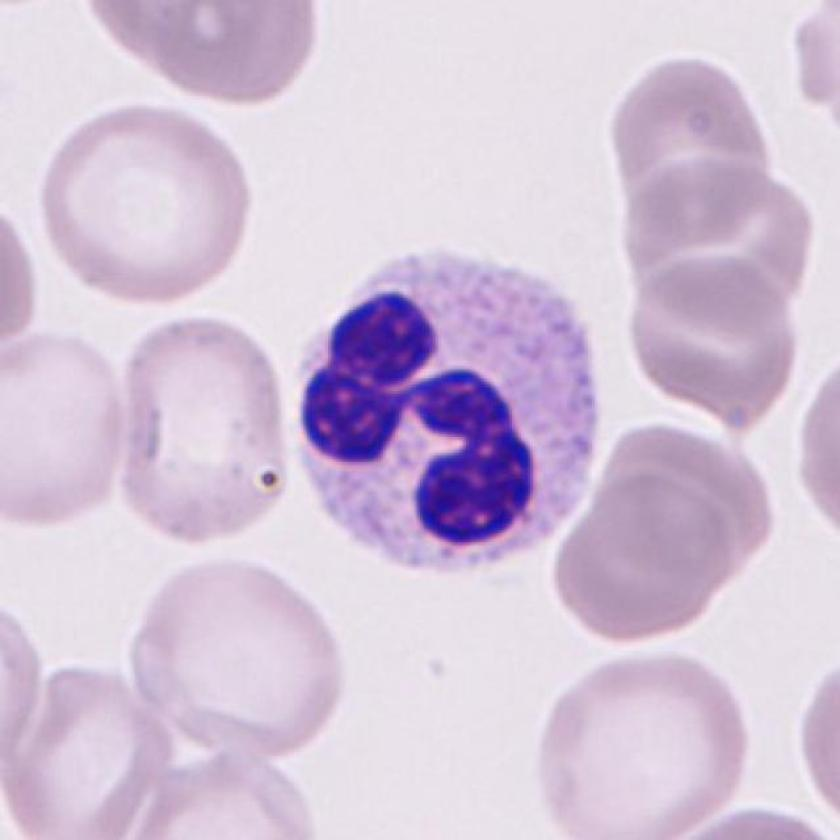neutrophil: (294, 253, 605, 577)
